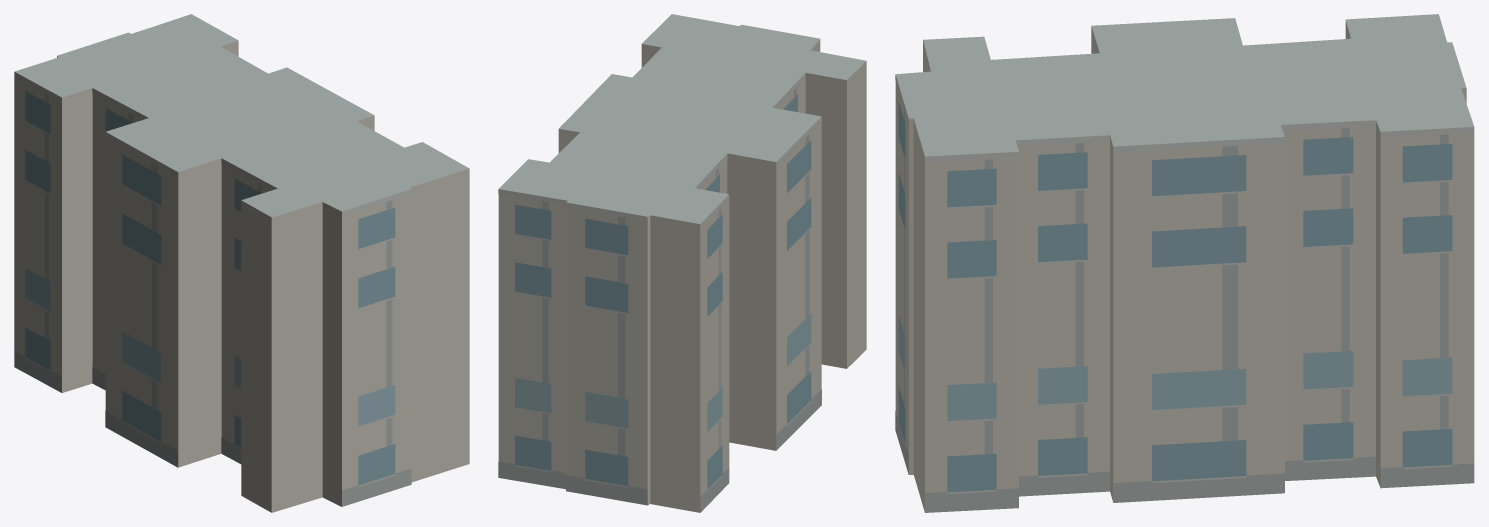
File: survey-upis-33020829.glb
3 views of the same model, side by side, from view 1: azimuth 30°, elevation 25°; view 2: azimuth 150°, elevation 25°; view 3: azimuth 270°, elevation 25° (orthographic). The views are drawn at different scales.
Parts seen in each view (by area): view 1: survey-upis-33020829.tmp; view 2: survey-upis-33020829.tmp; view 3: survey-upis-33020829.tmp.
Boxes of the visible parts, bbox=[...] form: survey-upis-33020829.tmp: bbox=[14, 14, 469, 512]; survey-upis-33020829.tmp: bbox=[498, 14, 866, 512]; survey-upis-33020829.tmp: bbox=[895, 14, 1474, 512].
Size of the model in its own units: 12.02 by 14 by 20.62.
